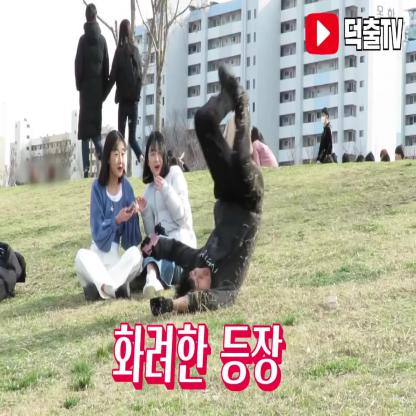Fall_Down: (138, 61, 268, 316)
